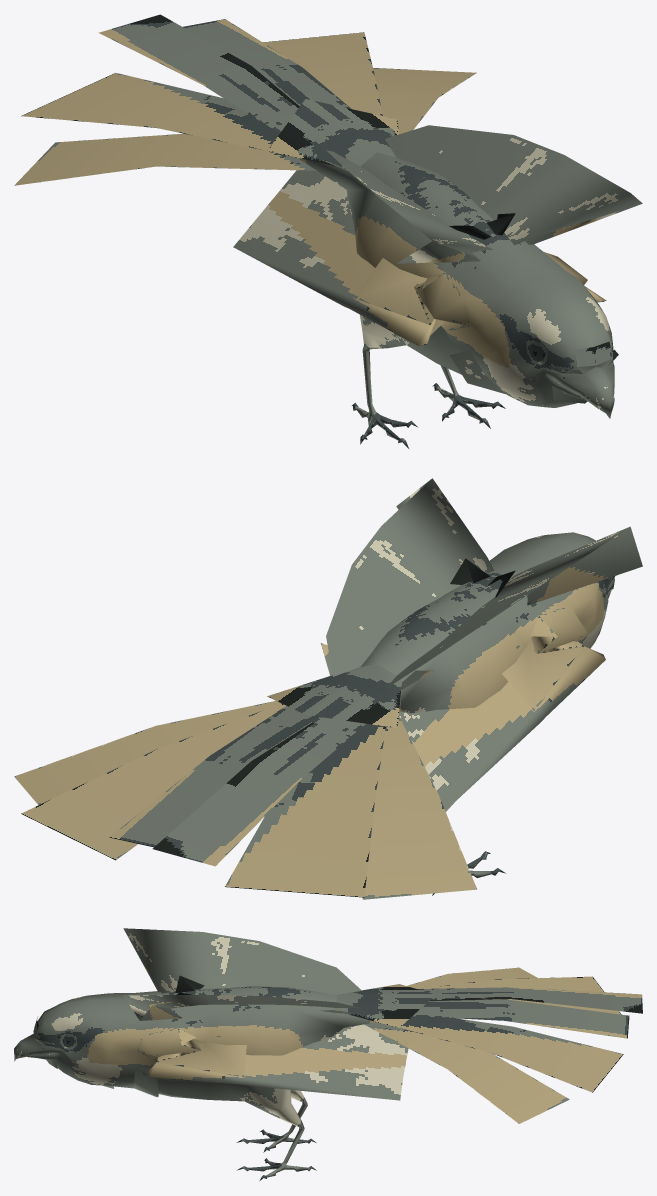
The model's file is bird-wing-bars.glb.
3 views of the same model, one above another, from view 1: azimuth 30°, elevation 25°; view 2: azimuth 150°, elevation 25°; view 3: azimuth 270°, elevation 25° (orthographic). The views are drawn at different scales.
Visible parts, largest first — view 1: bird-wing-bars runtime mesh; view 2: bird-wing-bars runtime mesh; view 3: bird-wing-bars runtime mesh.
Boxes of the visible parts, bbox=[...] form: bird-wing-bars runtime mesh: bbox=[14, 14, 642, 448]; bird-wing-bars runtime mesh: bbox=[14, 478, 642, 899]; bird-wing-bars runtime mesh: bbox=[14, 928, 642, 1181].
Size of the model in its own units: 0.3956 by 0.23 by 0.6715.
1 material, 1 textured.
